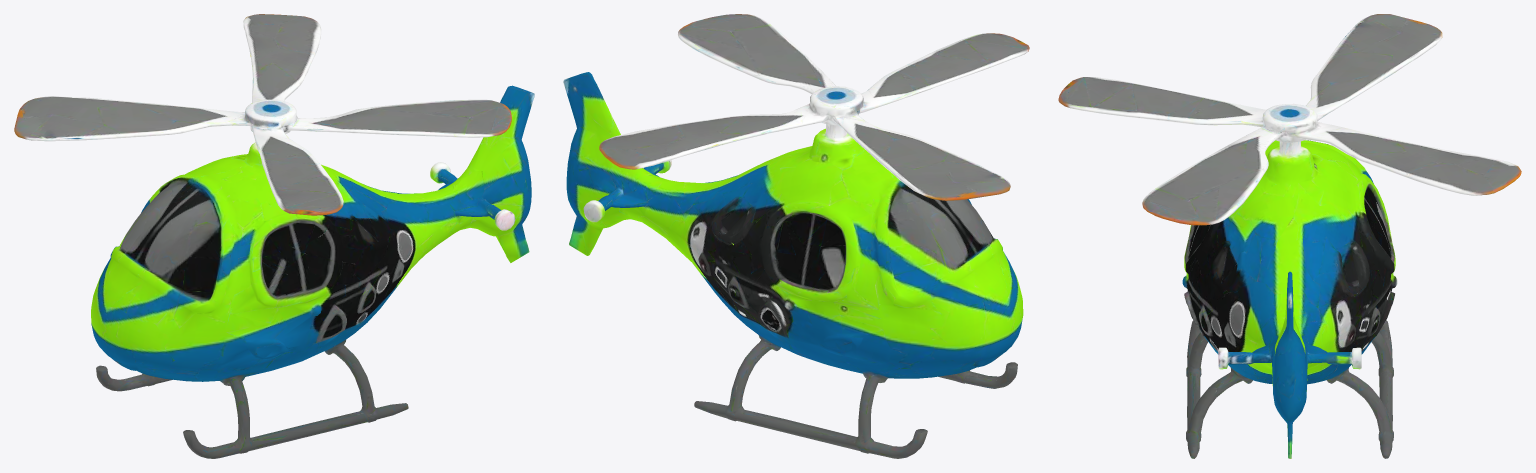
Rendered from vehicle-helicopter.glb.
The picture shows the model from 3 angles, left to right: view 1: azimuth 30°, elevation 25°; view 2: azimuth 150°, elevation 25°; view 3: azimuth 270°, elevation 25°; orthographic projection. The views are drawn at different scales.
Size of the model in its own units: 1.91 by 1.13 by 1.56.
Materials: 1 (1 with a texture image).
